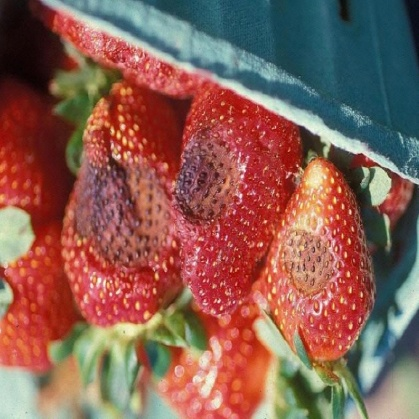Anthracnose_FR: (78, 118, 301, 304), (90, 138, 352, 273), (172, 190, 247, 294)
